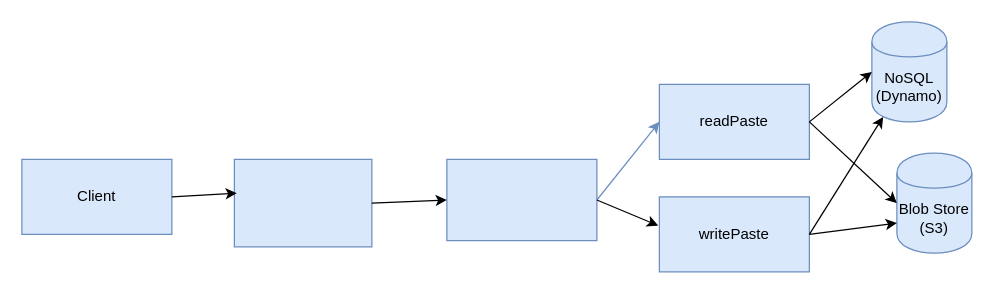
Some shapes in this 994 by 294 pixel diagram are drawn without their labels. The centre of each missing label's shape, as x and y in pixels:
"Backend (API gateway)" belongs at (521,199).
"Frontend (GH pages)" belongs at (302,202).
